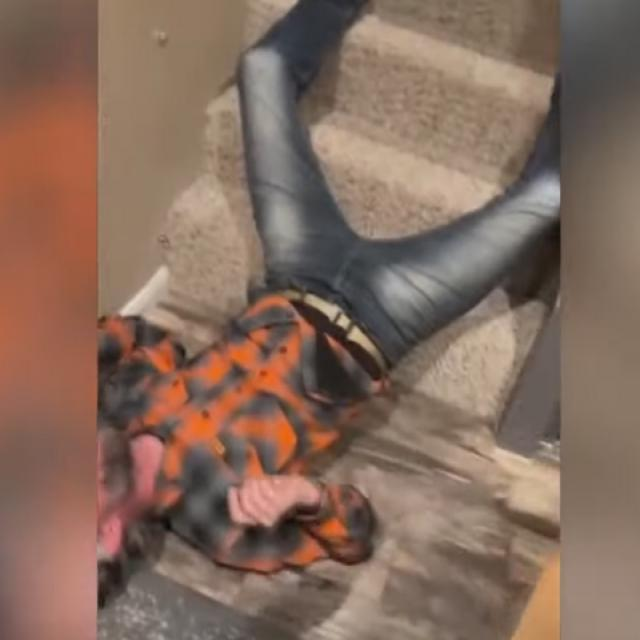fall: (94, 2, 562, 595)
